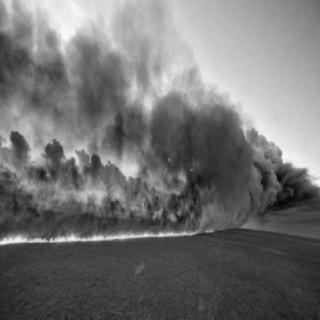Fire: (0, 221, 217, 245)
Smoke: (3, 10, 291, 216)
